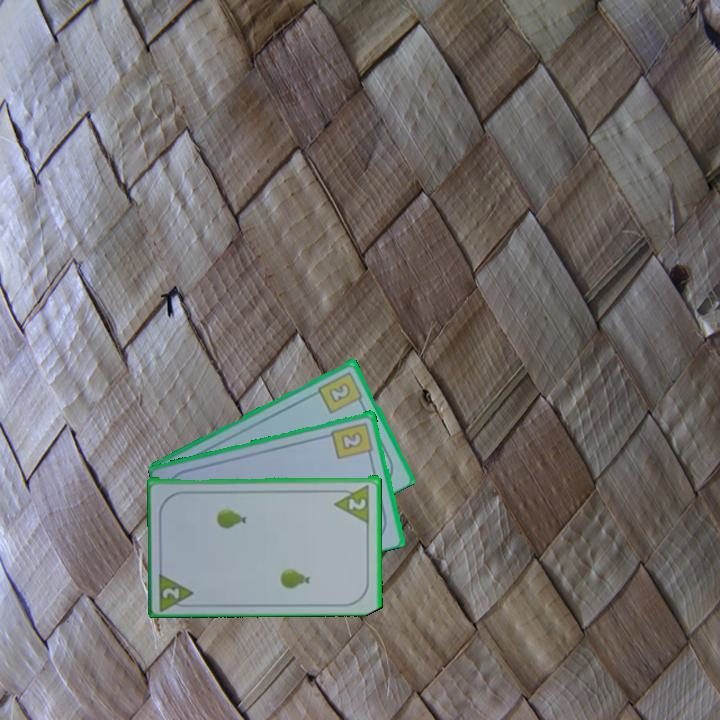2b: (315, 368, 366, 416), (329, 418, 376, 462)
2p: (332, 481, 372, 524), (159, 584, 183, 601)
